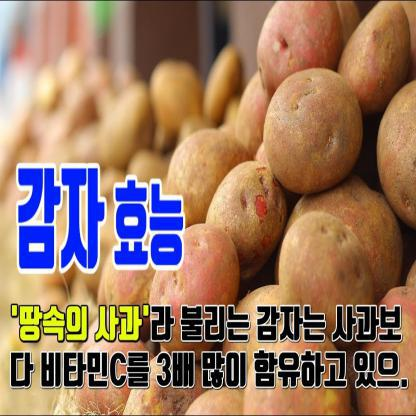potato: (255, 61, 364, 196), (274, 208, 378, 344), (142, 207, 242, 345), (165, 111, 274, 232), (241, 0, 348, 103), (210, 164, 296, 282), (338, 0, 416, 102)
